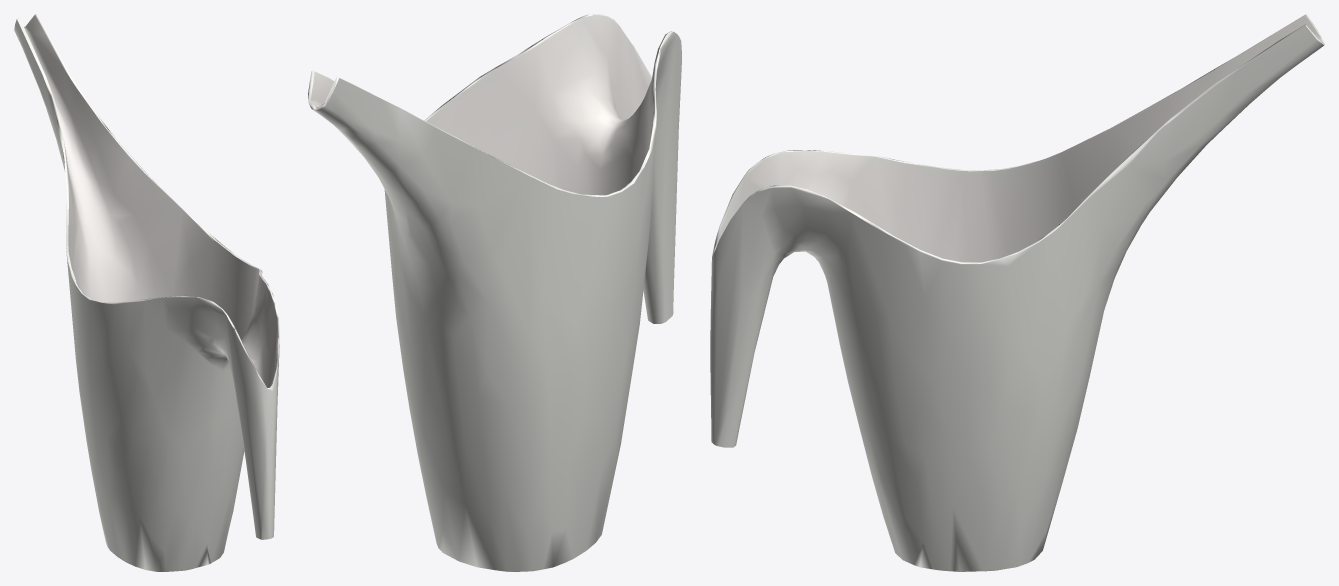
3 renders of one model, left to right at view 1: azimuth 30°, elevation 25°; view 2: azimuth 150°, elevation 25°; view 3: azimuth 270°, elevation 25°, orthographic. The views are drawn at different scales.
Visible parts, largest first — view 1: ProcessedMeshNode; view 2: ProcessedMeshNode; view 3: ProcessedMeshNode.
Boxes of the visible parts, x1=… form: ProcessedMeshNode: x1=14, y1=14, x2=279, y2=571; ProcessedMeshNode: x1=308, y1=14, x2=681, y2=571; ProcessedMeshNode: x1=710, y1=14, x2=1324, y2=571.
Size of the model in its own units: 0.1249 by 0.3261 by 0.3462.
1 material, 1 textured.
